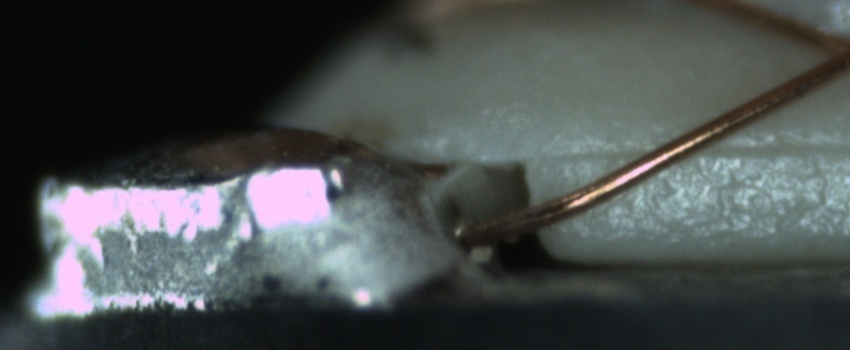CL: (804, 12, 849, 82)
DL: (553, 120, 849, 180)
